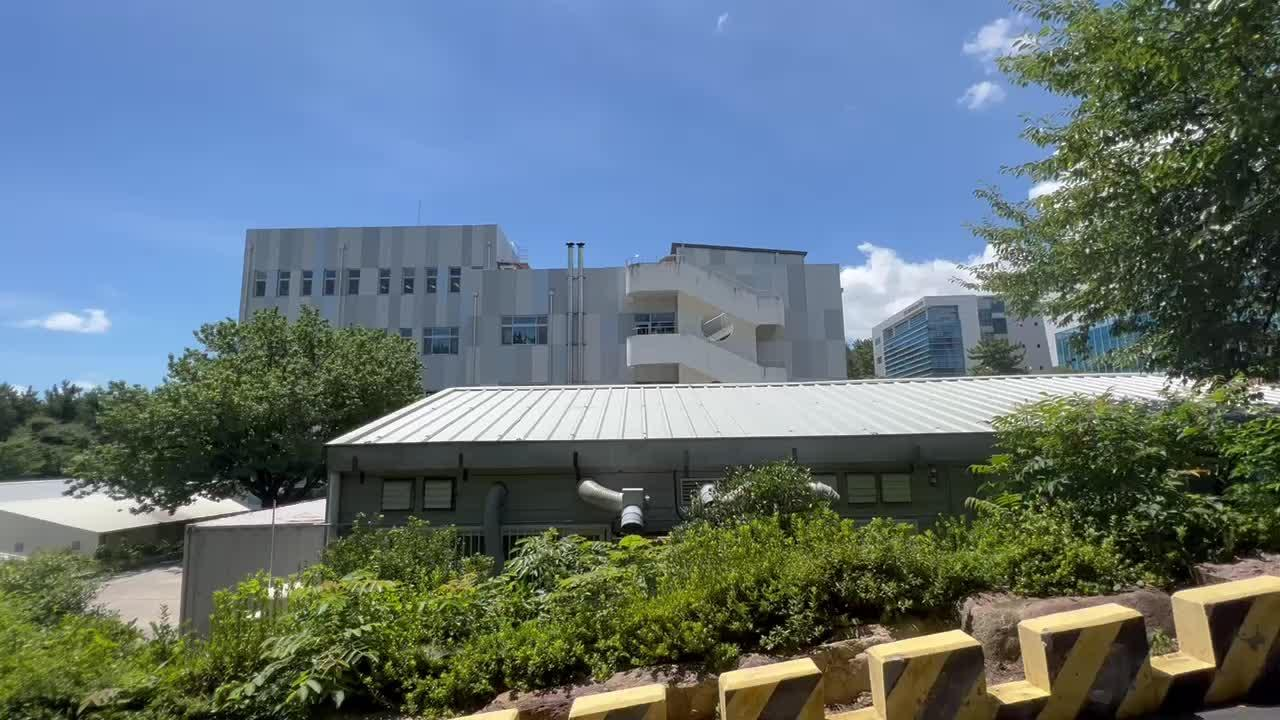building: (251, 216, 863, 379)
